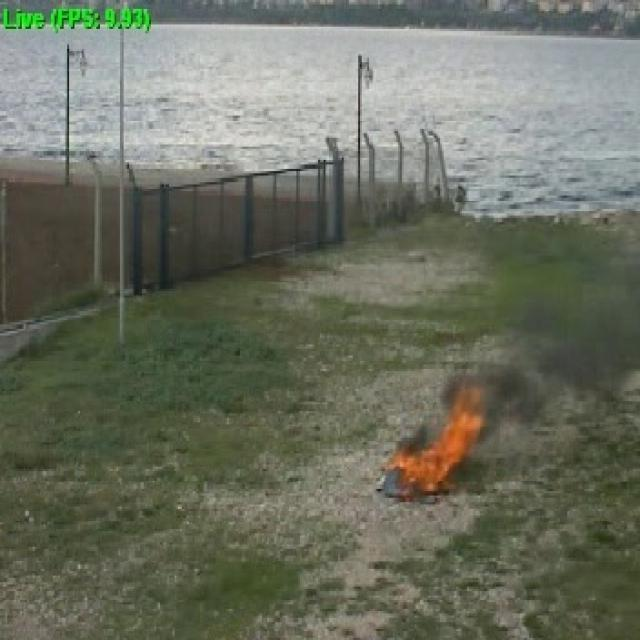Fire: (390, 410, 478, 493)
Smoke: (501, 296, 638, 418)
